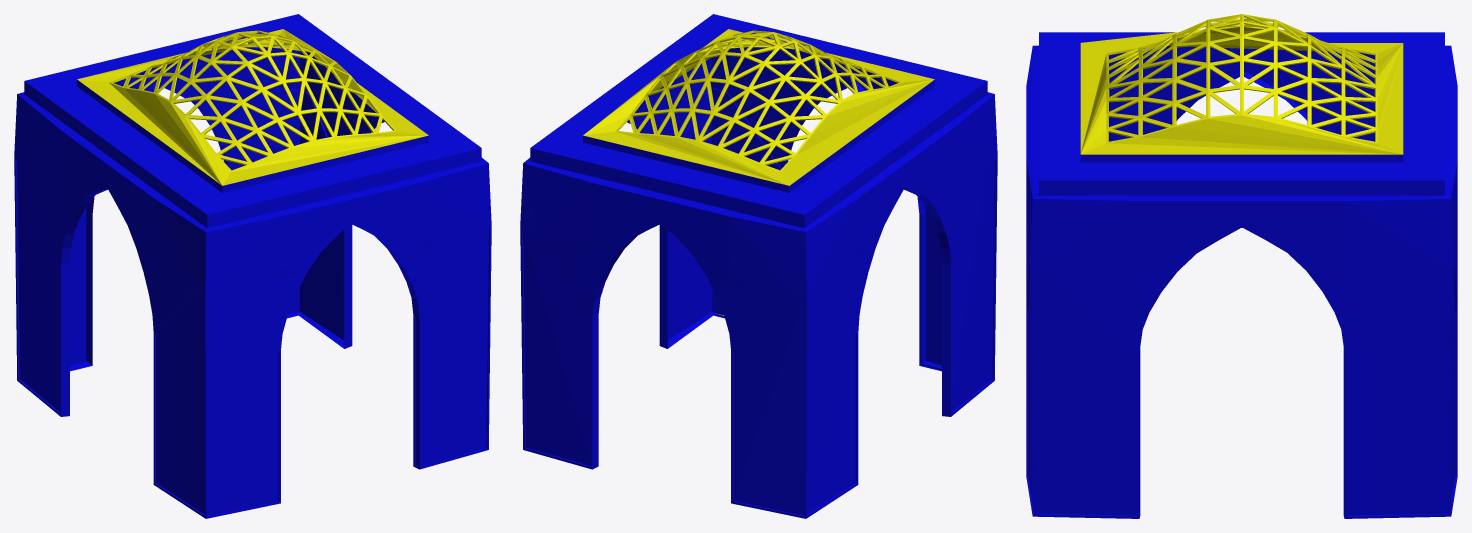
The model's file is Building1.fbx.
The picture shows the model from 3 angles, left to right: view 1: azimuth 30°, elevation 25°; view 2: azimuth 150°, elevation 25°; view 3: azimuth 270°, elevation 25°; orthographic projection. The views are drawn at different scales.
Parts seen in each view (by area): view 1: pCube1; view 2: pCube1; view 3: pCube1.
Part boxes in pixels (bbox=[...]): pCube1: bbox=[14, 14, 491, 518]; pCube1: bbox=[520, 14, 997, 518]; pCube1: bbox=[1026, 14, 1457, 518].
Size of the model in its own units: 1442 by 1790 by 1666.
